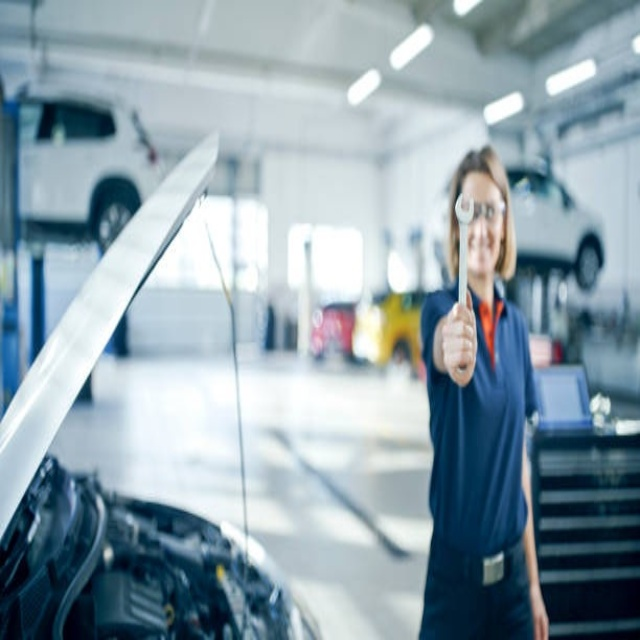Gafas: (463, 200, 506, 222)
Sin_guantes: (442, 300, 477, 381)
Sin_mascara: (467, 236, 492, 272)
